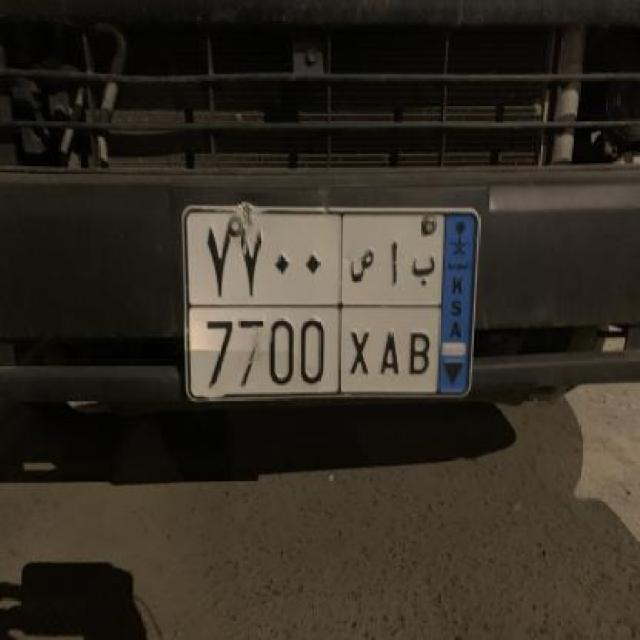license_plate: (180, 201, 483, 402)
